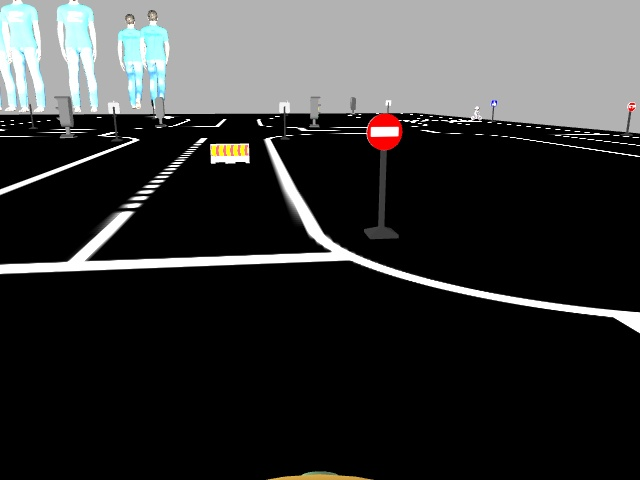ClosedRoadStand: (210, 144, 249, 161)
NoEntry: (367, 115, 401, 148)
